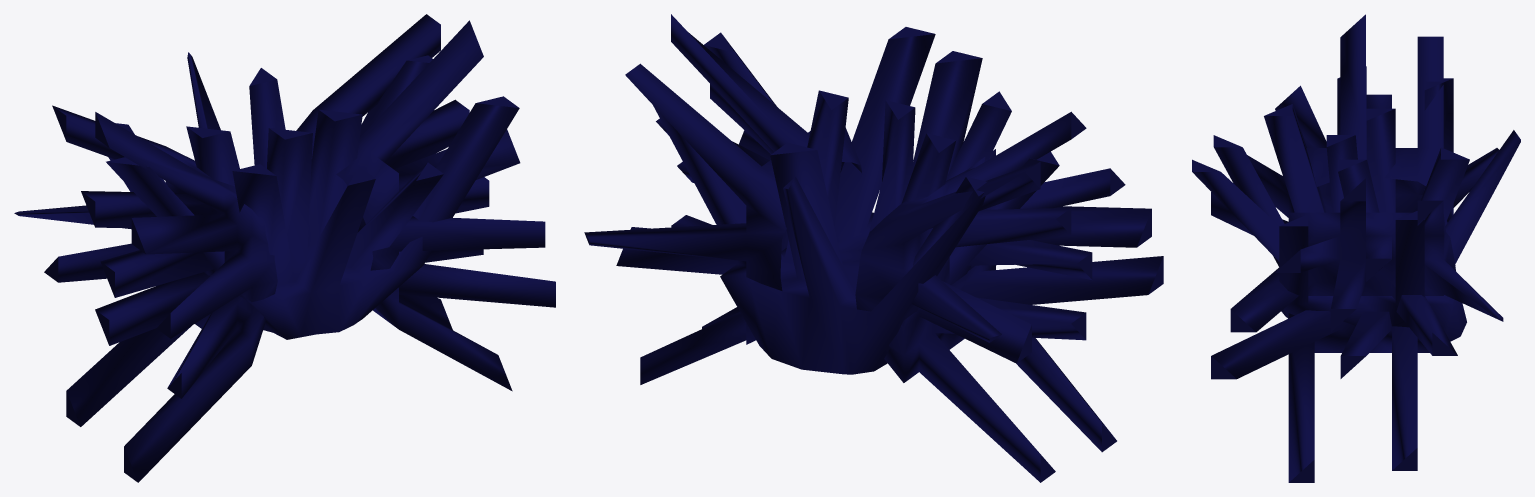
File: LTMP_chapeaupunk-25mars2013.FBX
The picture shows the model from 3 angles, left to right: view 1: azimuth 30°, elevation 25°; view 2: azimuth 150°, elevation 25°; view 3: azimuth 270°, elevation 25°; orthographic projection. The views are drawn at different scales.
Parts seen in each view (by area): view 1: Box003; view 2: Box003; view 3: Box003.
Boxes of the visible parts, x1,y1,x2,y2 form: Box003: (14,14,555,482); Box003: (584,14,1163,482); Box003: (1192,14,1520,482).
Size of the model in its own units: 41.73 by 34.67 by 33.89.
